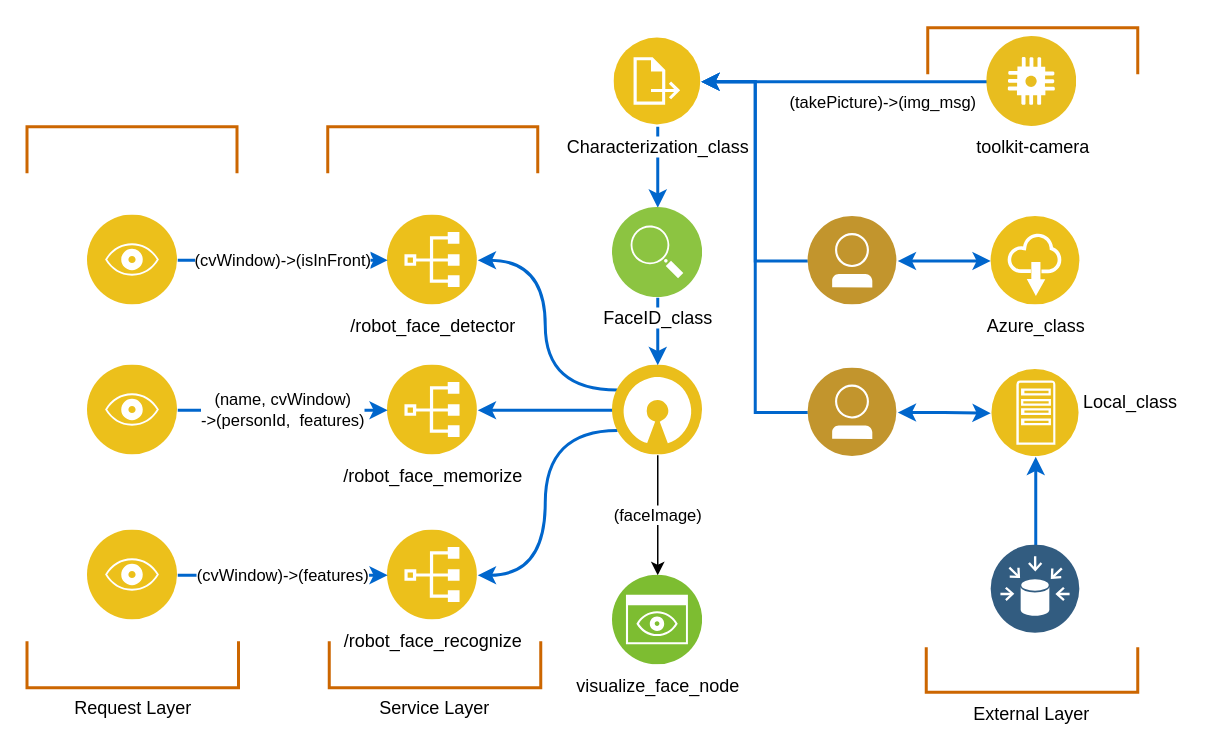
This 1205x750 diagram has some shape labels left out. Each missing label, with the box of its shape:
Packing Class: (990, 544, 1080, 633)
PersonCloud_class: (807, 216, 897, 304)
PersonLocal_class: (807, 368, 897, 456)
robot_face_node: (612, 364, 702, 454)
